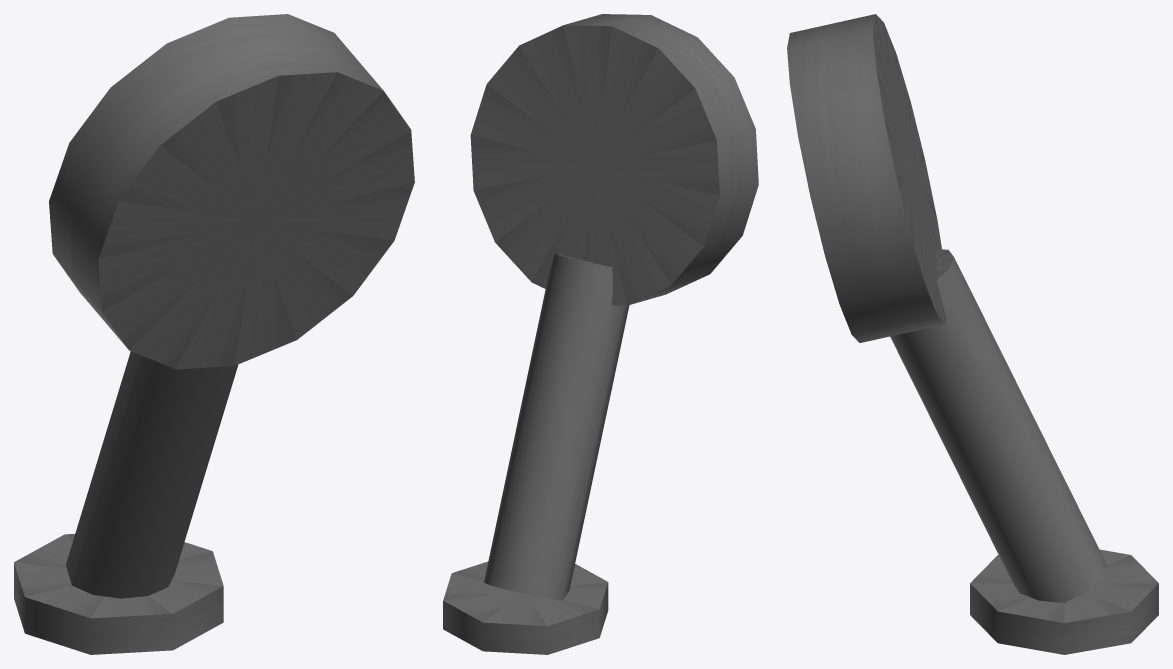
The model's file is mastarmcurve_8x2_c5_down.obj.
3 views of the same model, side by side, from view 1: azimuth 30°, elevation 25°; view 2: azimuth 150°, elevation 25°; view 3: azimuth 270°, elevation 25° (orthographic). The views are drawn at different scales.
Visible parts, largest first — view 1: mastarm_8x2_c5_down; view 2: mastarm_8x2_c5_down; view 3: mastarm_8x2_c5_down.
Boxes of the visible parts, x1=… form: mastarm_8x2_c5_down: x1=14, y1=14, x2=414, y2=654; mastarm_8x2_c5_down: x1=443, y1=14, x2=758, y2=654; mastarm_8x2_c5_down: x1=787, y1=14, x2=1158, y2=654.
Bounding box in the file's own units: 0.6737 × 1.37 × 0.7878.
